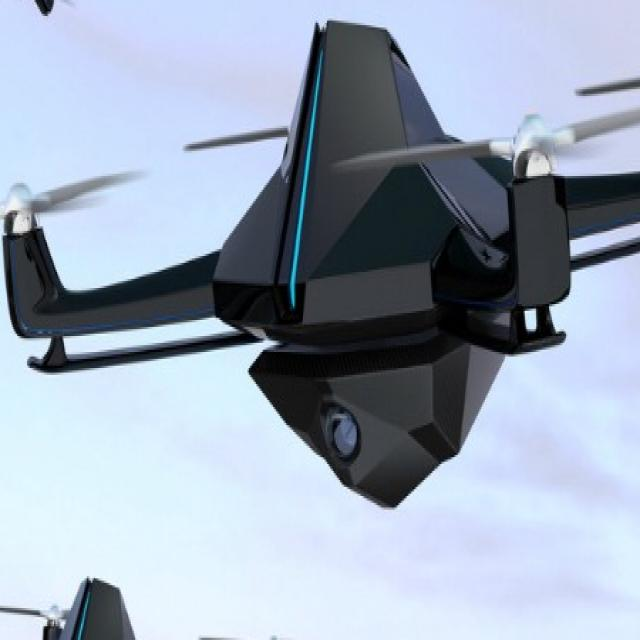drone: (0, 34, 640, 512), (0, 0, 87, 37)
